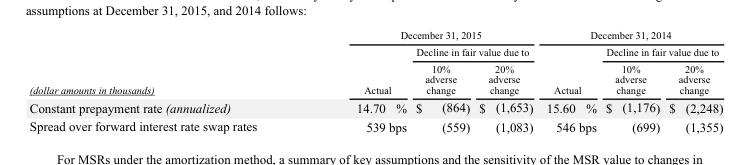table: (28, 29, 722, 133)
table column: (28, 29, 306, 133), (306, 29, 410, 133), (473, 29, 539, 133), (410, 29, 473, 133), (600, 29, 663, 133), (539, 29, 600, 133), (663, 29, 722, 133)
table column header: (28, 29, 722, 97)
table row: (28, 60, 722, 97), (28, 97, 722, 116), (28, 43, 722, 60), (28, 116, 722, 133), (28, 29, 722, 43)
table spanning cell: (28, 29, 306, 97), (306, 43, 410, 97), (539, 43, 600, 97), (306, 29, 539, 43), (539, 29, 722, 43), (410, 43, 539, 60), (600, 43, 722, 60)
